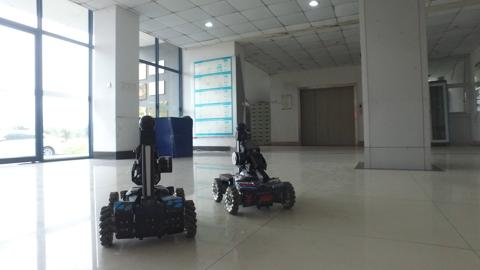chariot: (90, 113, 203, 247), (205, 112, 300, 220)
